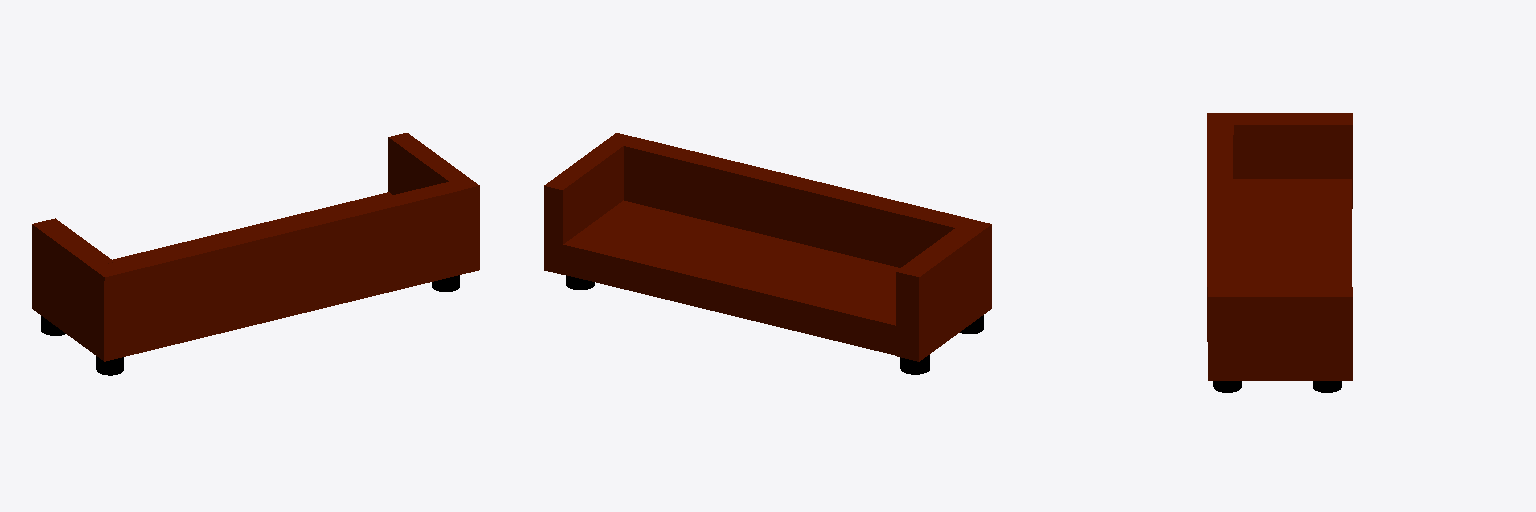
The model's file is gauc.obj.
The picture shows the model from 3 angles: view 1: azimuth 30°, elevation 25°; view 2: azimuth 150°, elevation 25°; view 3: azimuth 270°, elevation 25°; orthographic projection.
Visible parts, largest first — view 1: Mesh1 Model; view 2: Mesh1 Model; view 3: Mesh1 Model.
Part boxes in pixels (x1,y1,x2,y2): Mesh1 Model: (32,133,479,375); Mesh1 Model: (544,133,991,374); Mesh1 Model: (1207,113,1352,392).
Bounding box in the file's own units: 69346 × 18029 × 23306.